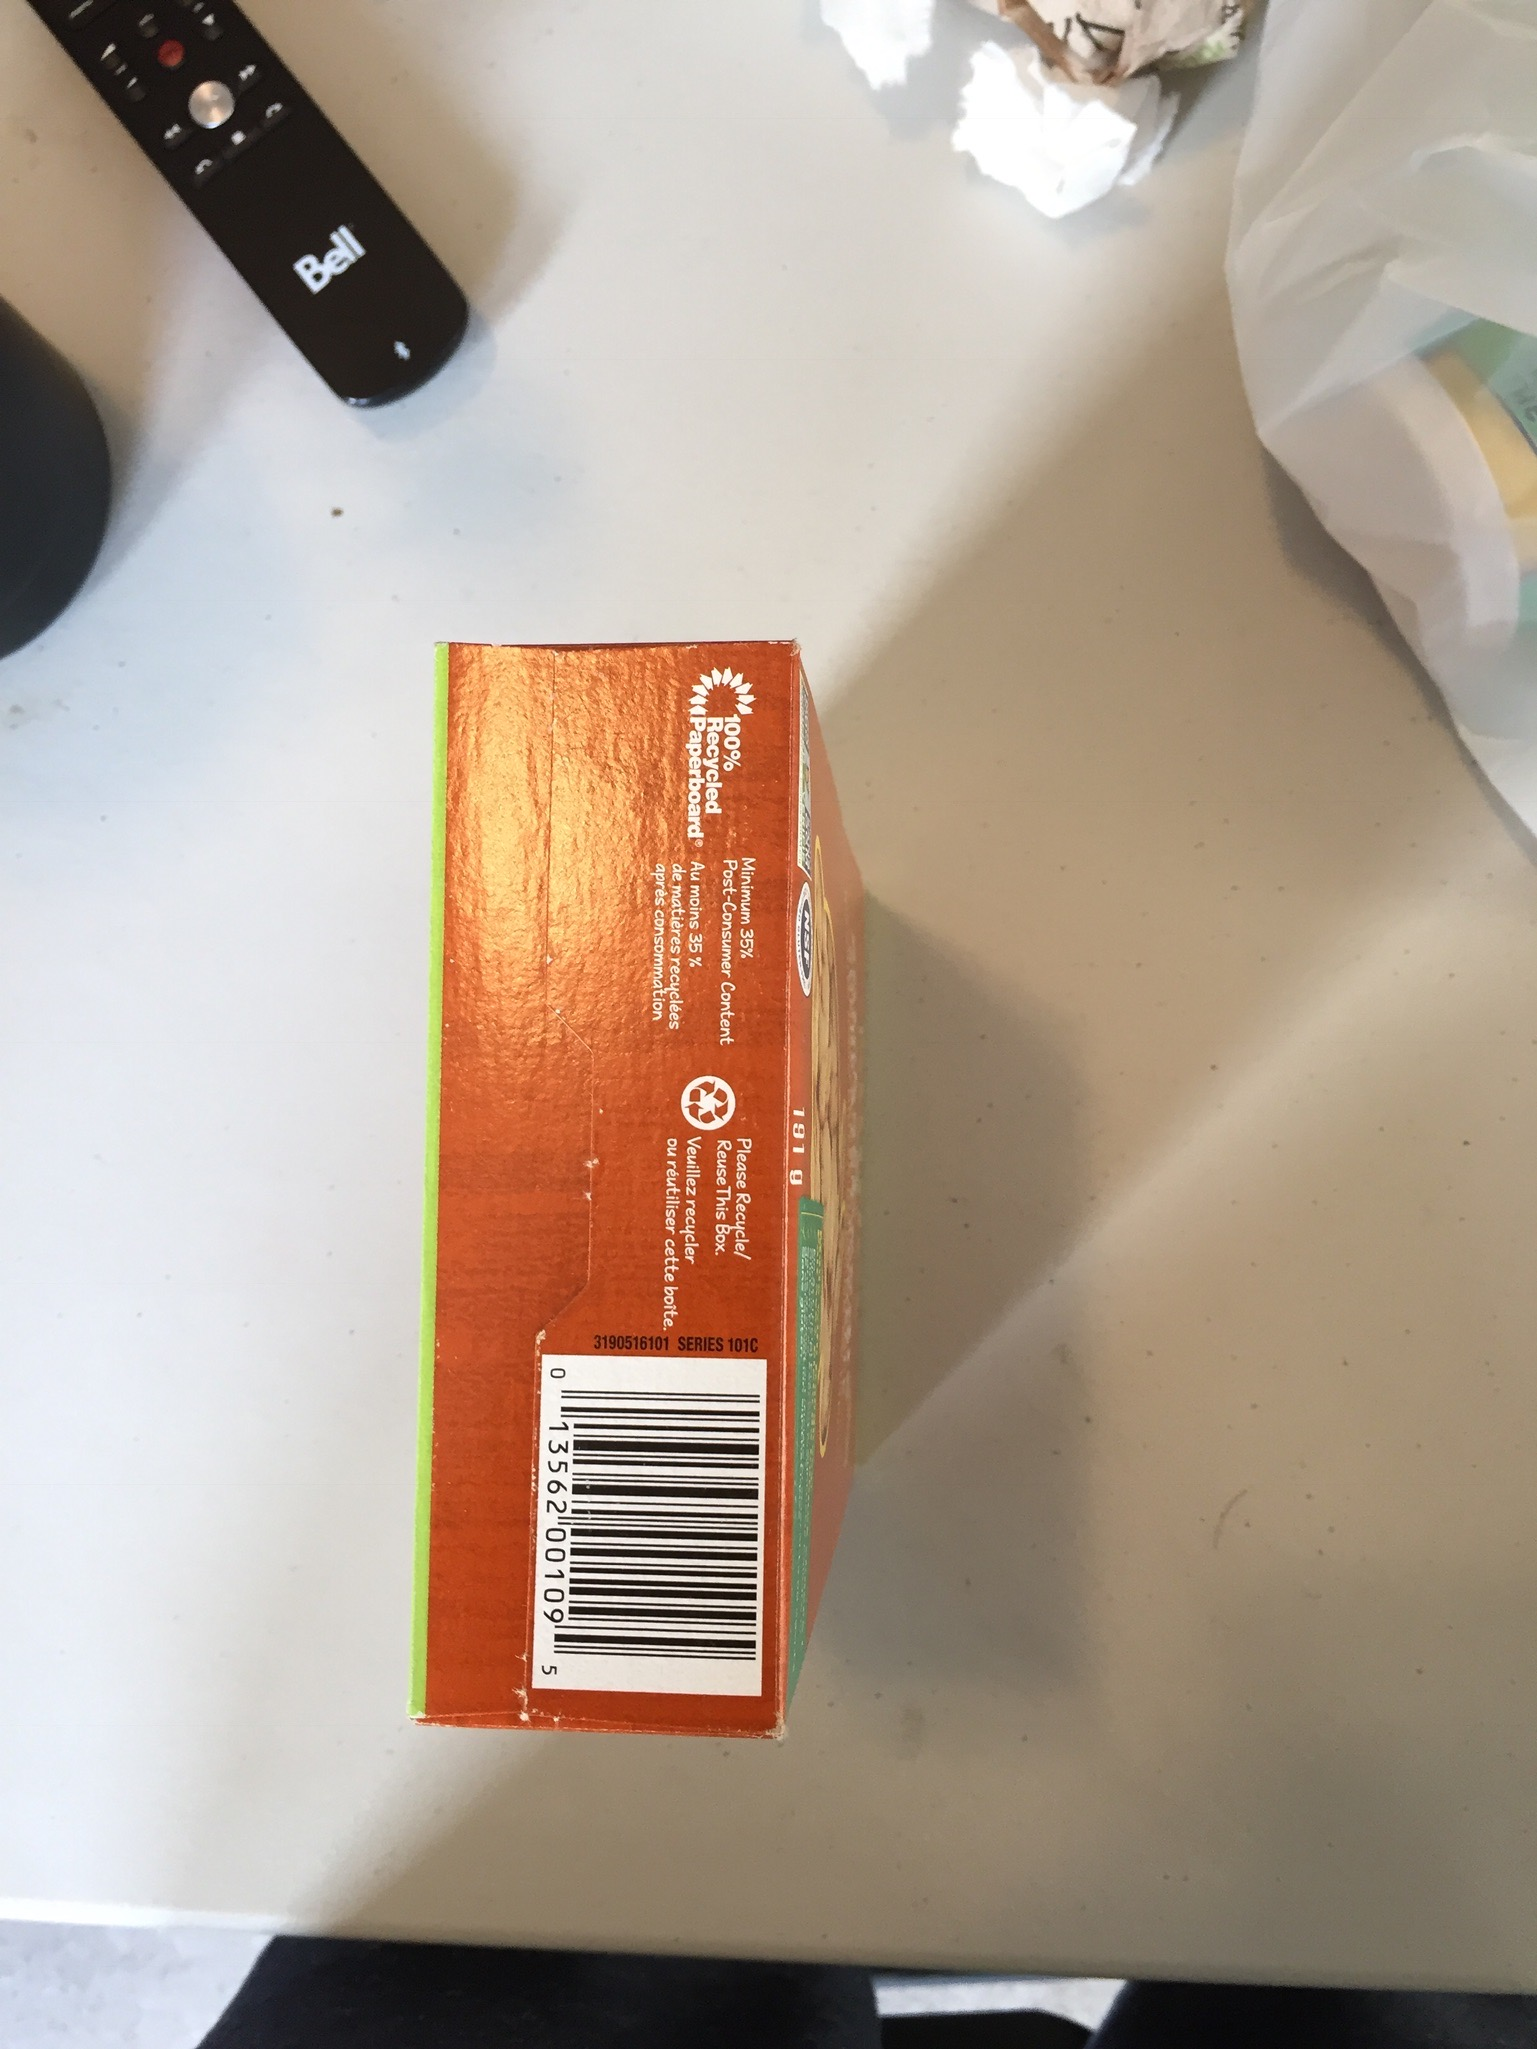annies_snickerdoodle_cinnamon_sugar: (449, 652, 772, 1729)
